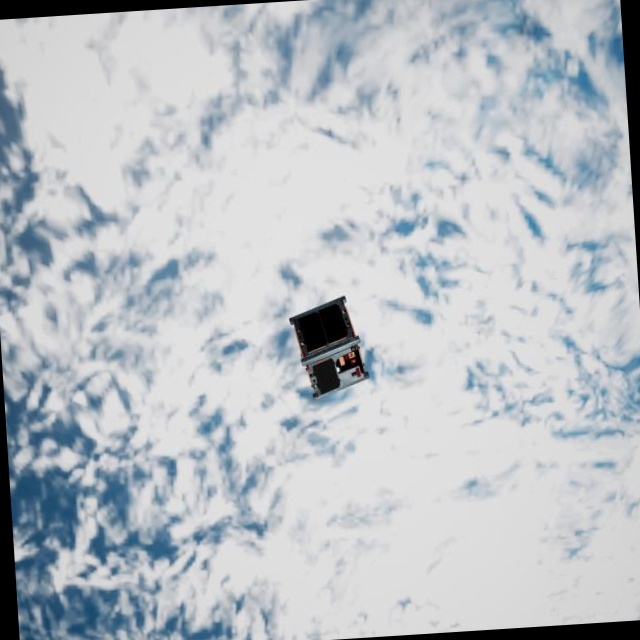satellite: (286, 296, 365, 397)
